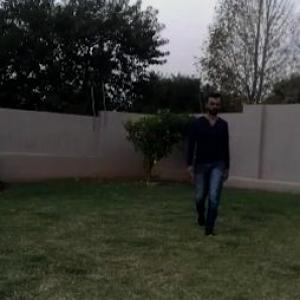follow: (186, 95, 231, 235)
